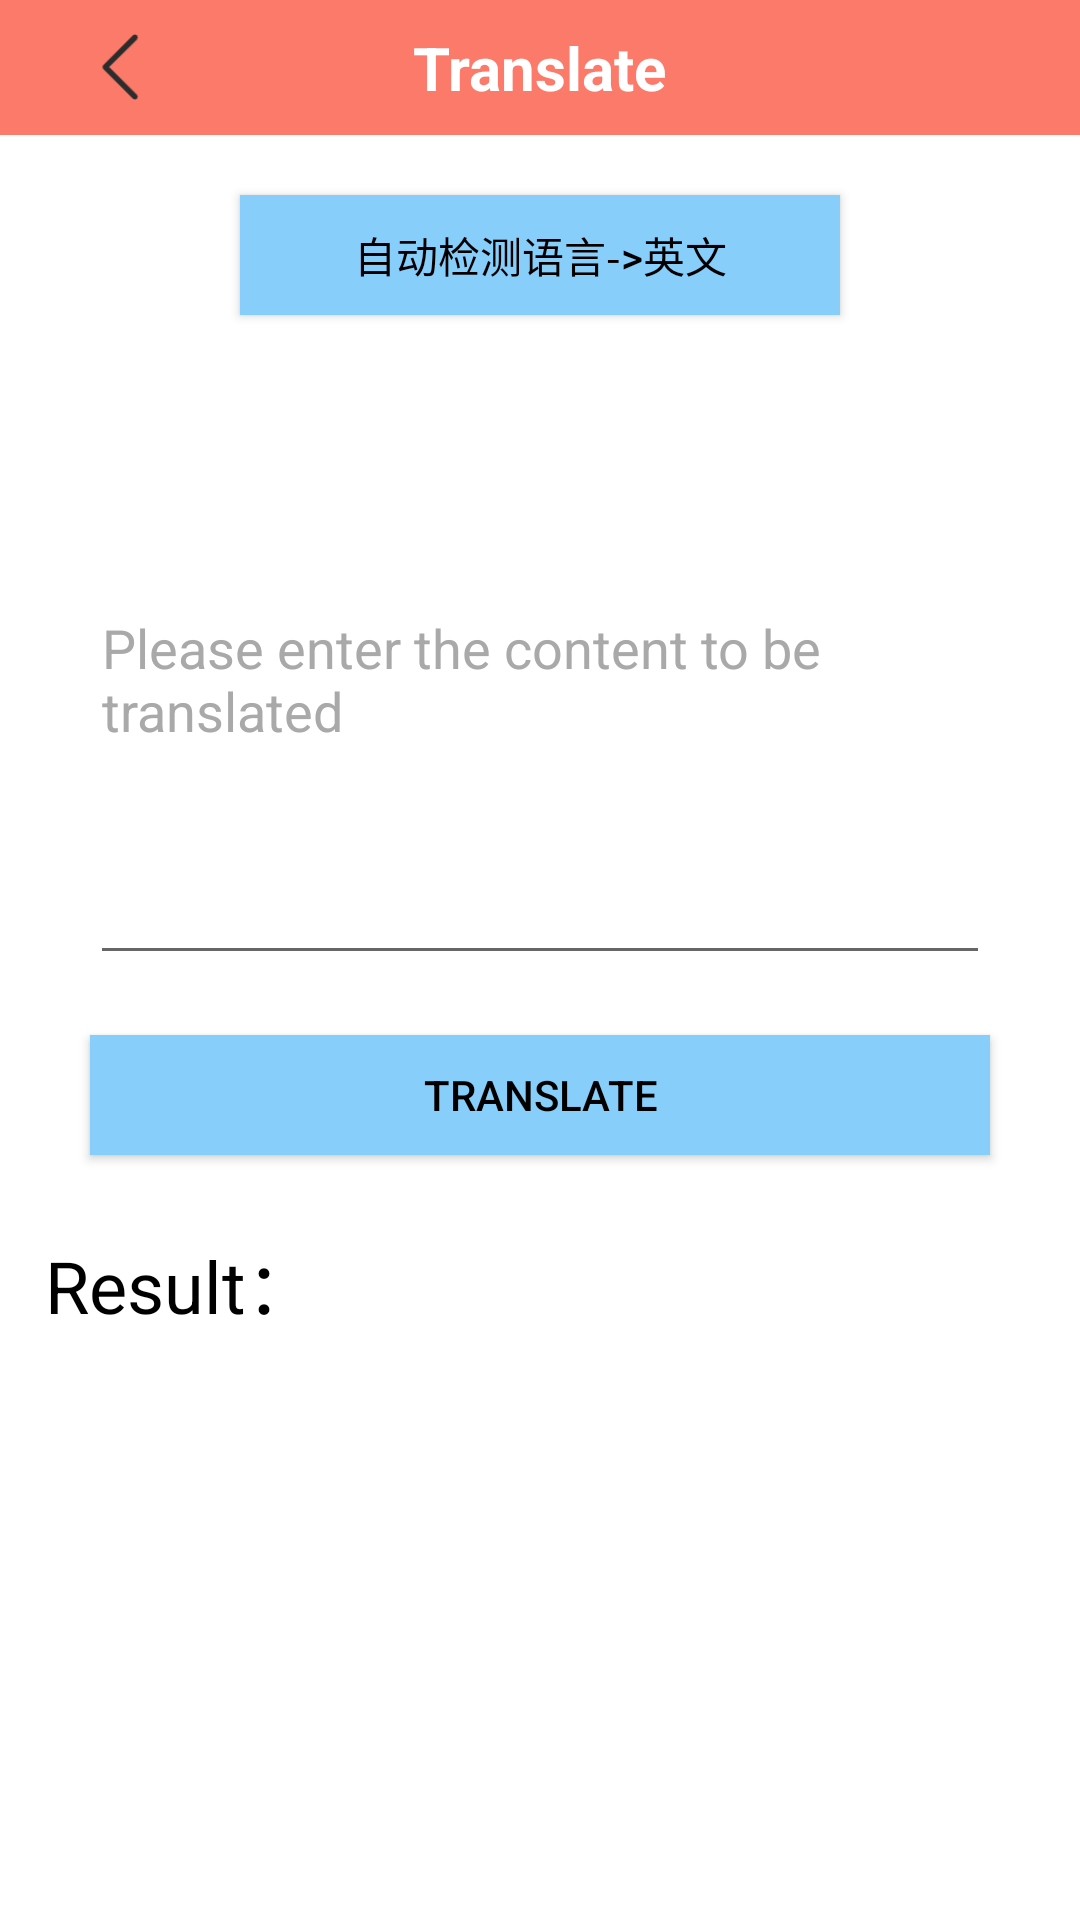

Icon bounding boxes for this 1080*1920 phone screenshot, format BBox(x1, y1, x2, y2):
back: BBox(102, 34, 138, 100)
